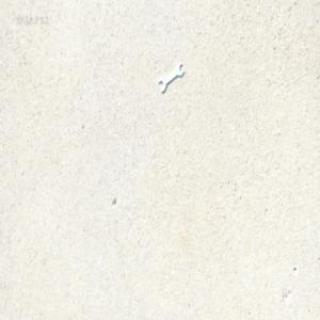Wrenchtrack_idkeyframe: (158, 60, 183, 92)
